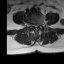CCS_normal: (35, 22, 36, 30)
LFS_stenosis: (38, 22, 40, 28)
LLS_stenosis: (36, 22, 38, 29)
RFS_stenosis: (31, 22, 33, 28)
RLS_stenosis: (33, 22, 35, 29)
